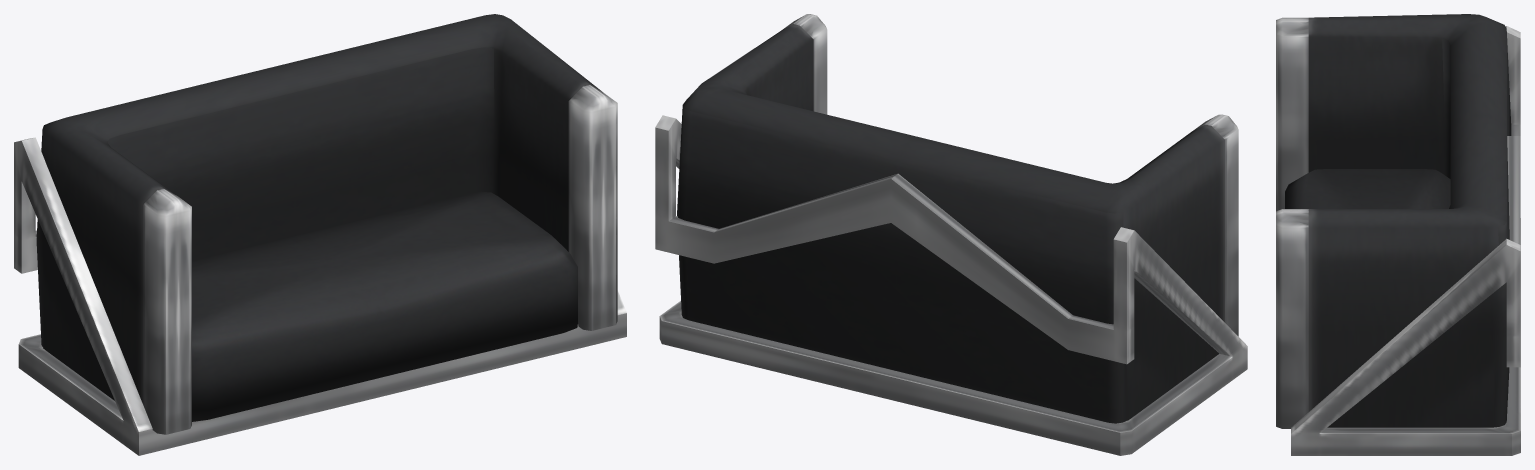
The model's file is MidcenturySofa_HD.fbx.
3 renders of one model, left to right at view 1: azimuth 30°, elevation 25°; view 2: azimuth 150°, elevation 25°; view 3: azimuth 270°, elevation 25°, orthographic. The views are drawn at different scales.
Visible parts, largest first — view 1: MidcenturySofa; view 2: MidcenturySofa; view 3: MidcenturySofa.
Part boxes in pixels (x1,y1,x2,y2): MidcenturySofa: (14, 14, 626, 455); MidcenturySofa: (655, 14, 1247, 455); MidcenturySofa: (1276, 14, 1520, 455).
Bounding box in the file's own units: 1.97 × 0.9684 × 0.9273.
